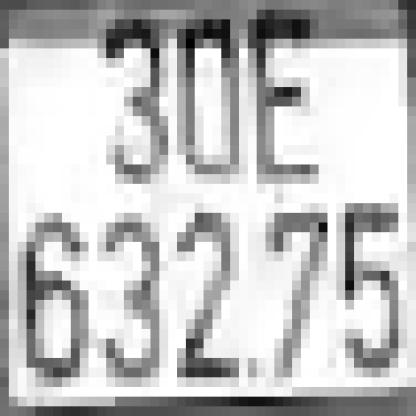2: (177, 203, 239, 368)
5: (328, 203, 398, 368)
6: (17, 203, 88, 377)
7: (257, 203, 318, 368)
E: (239, 19, 310, 184)
